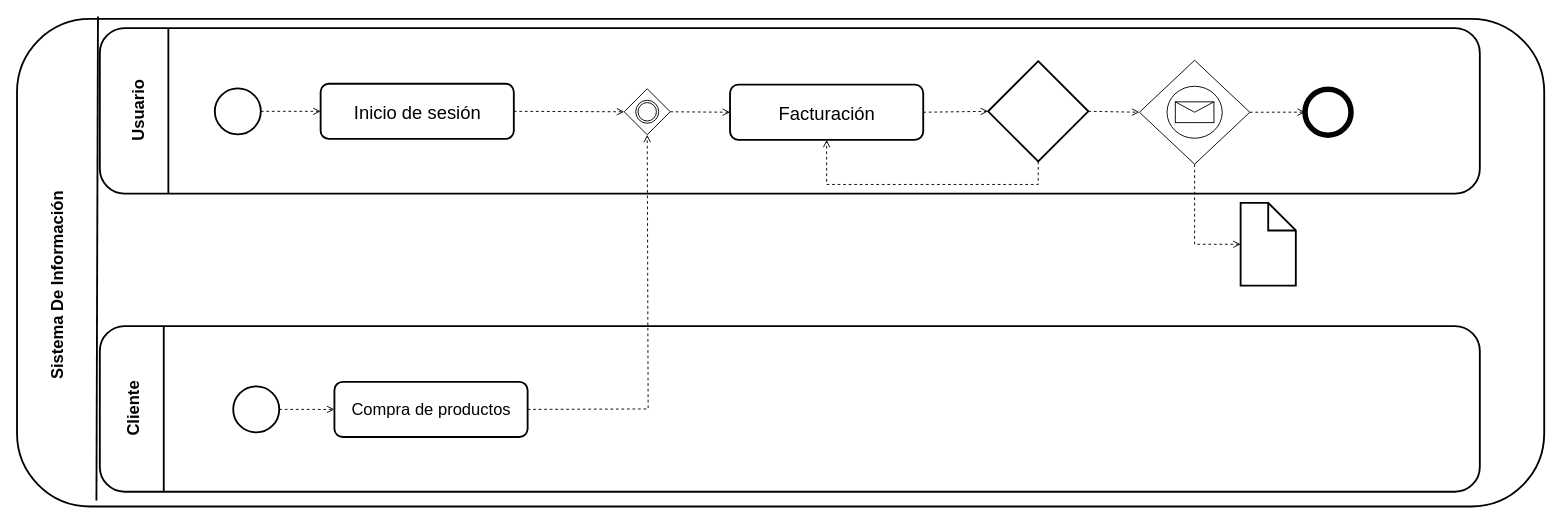
Some shapes in this 1560 by 523 pixel diagram are drawn without their labels. The shapes that lost their labels are listed below. From the top down, each one's centre as x and y in pixels, then its label:
At (x=1038, y=111): "Existencias?".
At (x=1267, y=243): "Orden del pedido".
